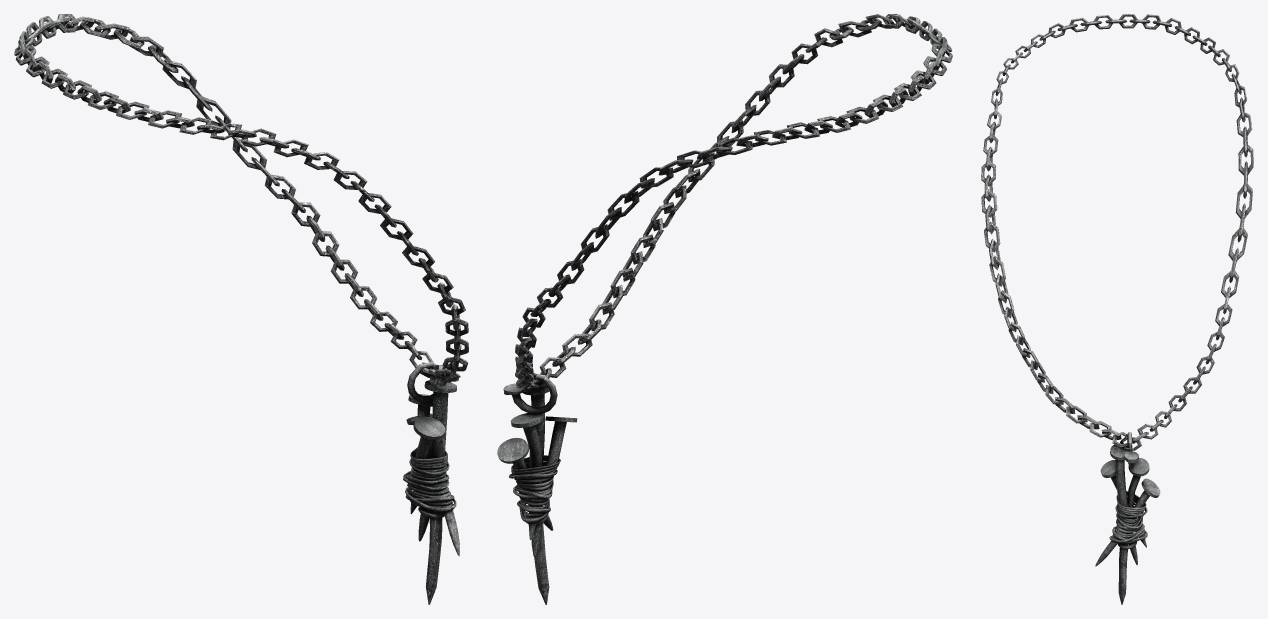
The model's file is PowerUPNeckles.fbx.
3 renders of one model, left to right at view 1: azimuth 30°, elevation 25°; view 2: azimuth 150°, elevation 25°; view 3: azimuth 270°, elevation 25°, orthographic. The views are drawn at different scales.
Visible parts, largest first — view 1: Material0-material-material; view 2: Material0-material-material; view 3: Material0-material-material.
Boxes of the visible parts, x1,y1,x2,y2 form: Material0-material-material: (14,14,468,604); Material0-material-material: (497,14,952,604); Material0-material-material: (981,14,1253,604).
Size of the model in its own units: 18.64 by 26.48 by 14.34.
